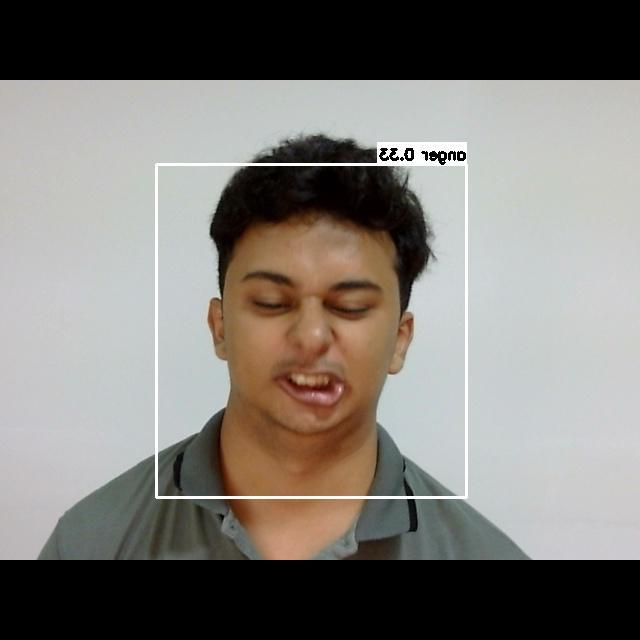Disgust: (221, 251, 396, 419)
